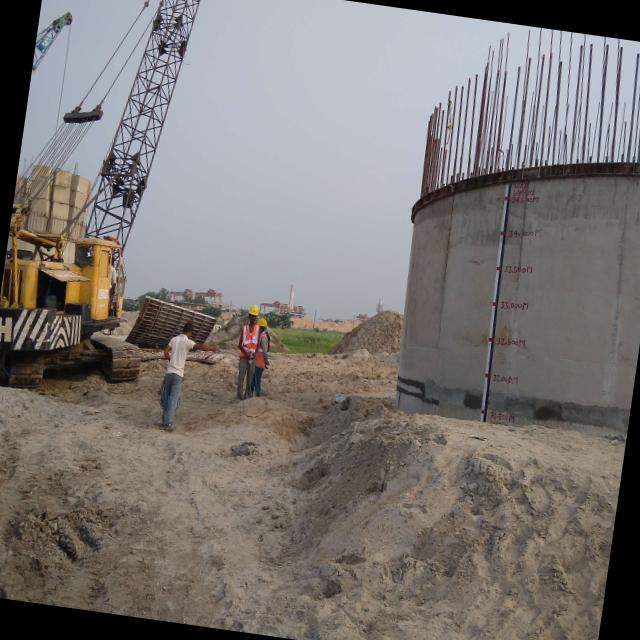cement: (397, 163, 640, 432)
white-sand: (0, 353, 626, 640)
